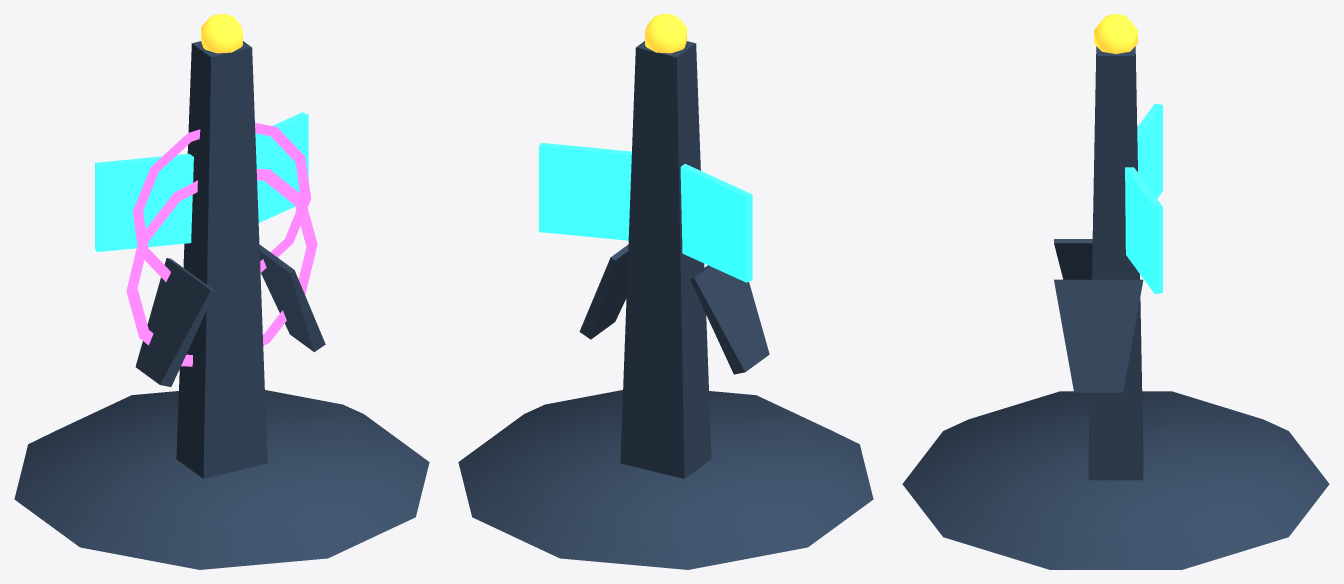
Rendered from command-horizon-wayfinding-lod2.glb.
3 renders of one model, left to right at view 1: azimuth 30°, elevation 25°; view 2: azimuth 150°, elevation 25°; view 3: azimuth 270°, elevation 25°, orthographic.
Visible parts, largest first — view 1: wayfinding-base, wayfinding-spine, wayfinding-panel--1, wayfinding-wing--1, wayfinding-ring-0, wayfinding-ring-1, wayfinding-panel-1, wayfinding-wing-1, wayfinding-beacon; view 2: wayfinding-base, wayfinding-spine, wayfinding-panel-1, wayfinding-panel--1, wayfinding-wing--1, wayfinding-wing-1, wayfinding-beacon; view 3: wayfinding-base, wayfinding-spine, wayfinding-wing-1, wayfinding-panel-1, wayfinding-panel--1, wayfinding-beacon, wayfinding-wing--1.
Boxes of the visible parts, <box> form: wayfinding-base: <box>14,390,429,569</box>; wayfinding-spine: <box>176,41,267,478</box>; wayfinding-panel--1: <box>95,153,193,251</box>; wayfinding-wing--1: <box>135,258,215,386</box>; wayfinding-ring-0: <box>126,169,317,366</box>; wayfinding-ring-1: <box>132,122,310,281</box>; wayfinding-panel-1: <box>255,112,308,222</box>; wayfinding-wing-1: <box>259,244,325,352</box>; wayfinding-beacon: <box>201,14,242,53</box>; wayfinding-base: <box>458,390,873,569</box>; wayfinding-spine: <box>620,41,711,478</box>; wayfinding-panel-1: <box>539,143,631,240</box>; wayfinding-panel--1: <box>680,163,752,282</box>; wayfinding-wing--1: <box>690,265,769,374</box>; wayfinding-wing-1: <box>579,244,628,339</box>; wayfinding-beacon: <box>645,14,686,53</box>; wayfinding-base: <box>902,391,1329,569</box>; wayfinding-spine: <box>1088,46,1143,480</box>; wayfinding-wing-1: <box>1054,279,1143,392</box>; wayfinding-panel-1: <box>1125,167,1162,293</box>; wayfinding-panel--1: <box>1137,103,1162,198</box>; wayfinding-beacon: <box>1094,14,1137,53</box>; wayfinding-wing--1: <box>1054,239,1092,279</box>.
Size of the model in its own units: 2.82 by 3.58 by 2.96.
